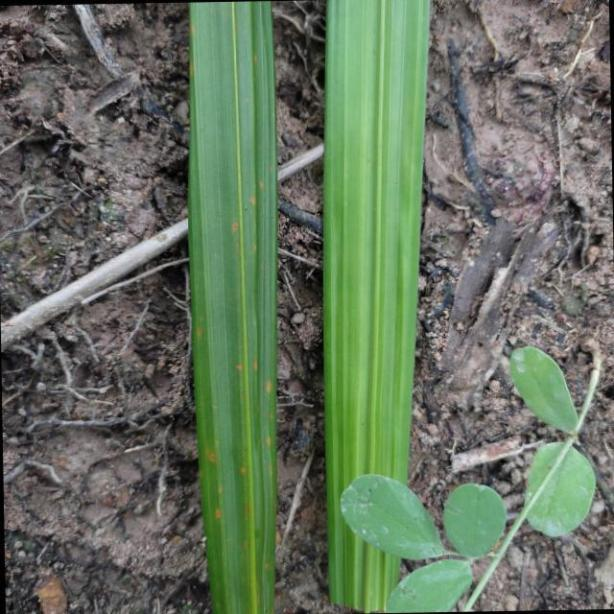nitrogen: (322, 0, 421, 614), (186, 2, 278, 612)
